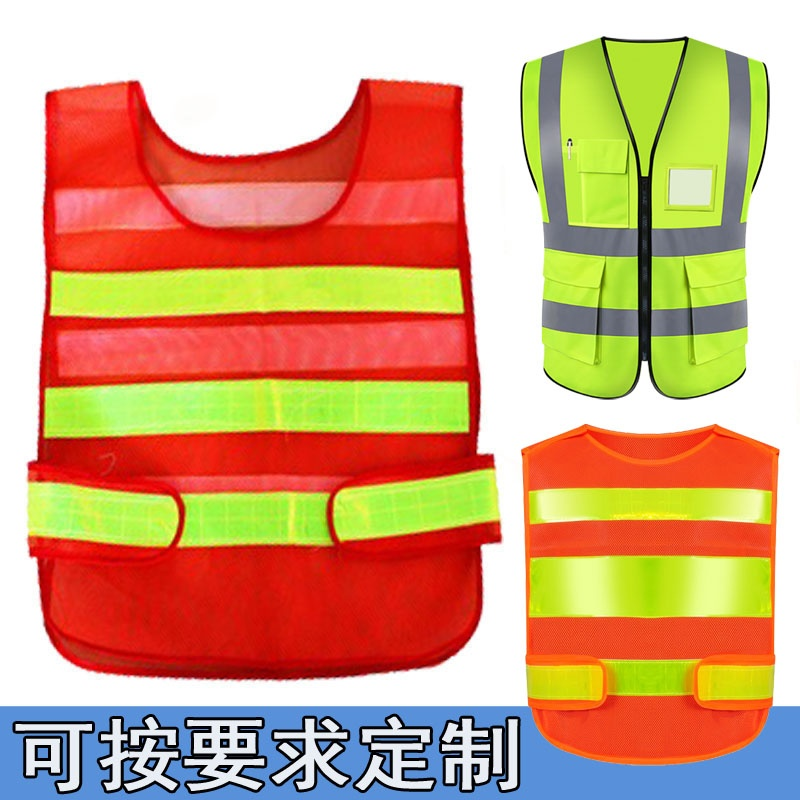safety vest: (35, 80, 491, 672), (517, 32, 771, 398), (522, 423, 781, 761)
